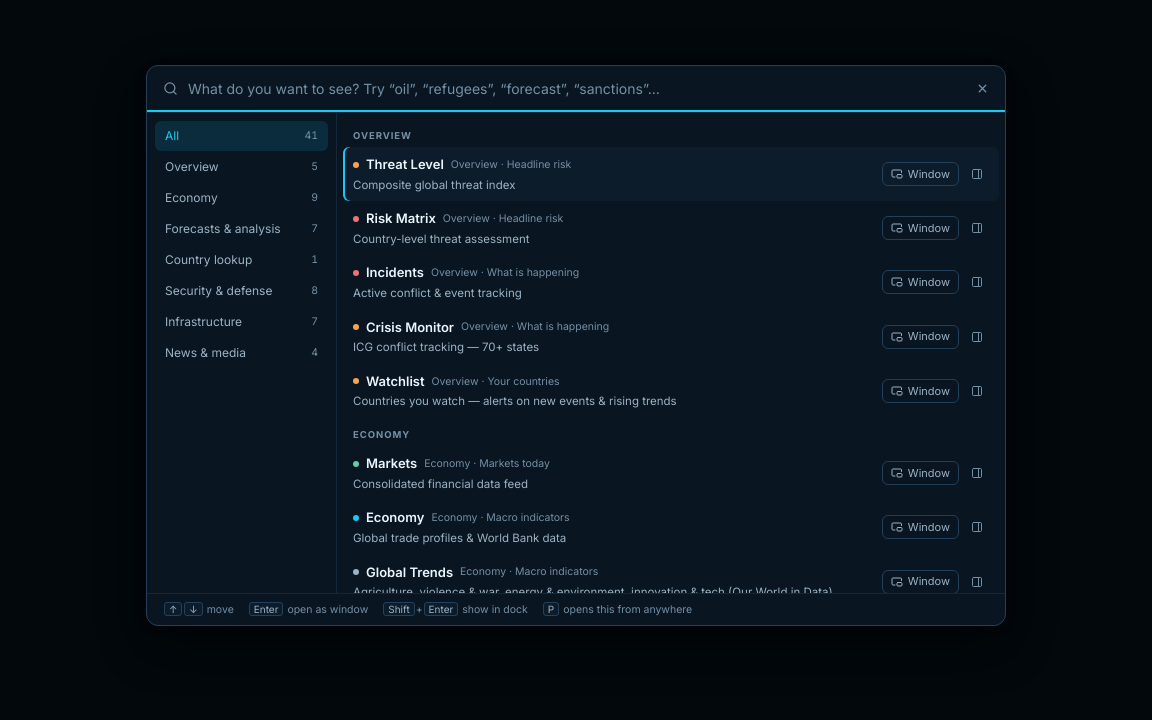
it: panel library › says so when nothing matches
Replace the text in the field named "Search panels" with "zzzzqqq" at (574, 89), box 188,78 -> 961,99
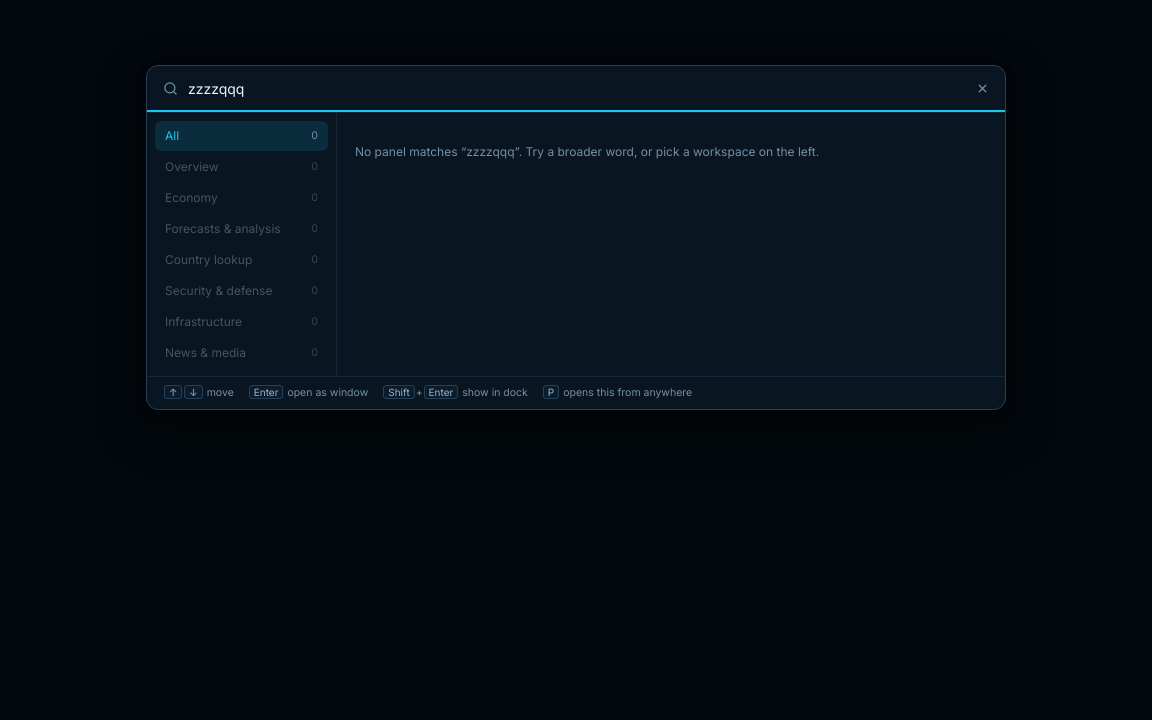
Check: the text "No panel matches" is shown, box 355,144 -> 466,159
